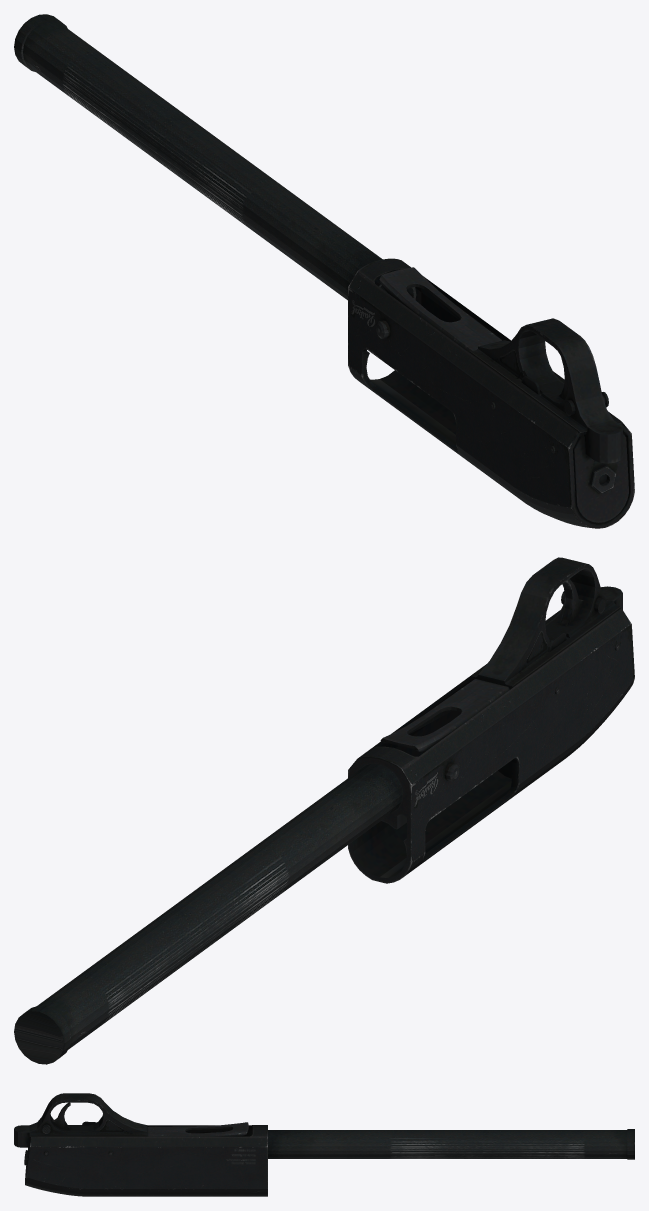
The picture shows the model from 3 angles, top to bottom: view 1: azimuth 30°, elevation 25°; view 2: azimuth 150°, elevation 25°; view 3: azimuth 270°, elevation 25°; orthographic projection. The views are drawn at different scales.
Visible parts, largest first — view 1: TW_54491c4f4bdc2db1078b4568_PZ_Import; view 2: TW_54491c4f4bdc2db1078b4568_PZ_Import; view 3: TW_54491c4f4bdc2db1078b4568_PZ_Import.
Part boxes in pixels (left/top/right/bottom): TW_54491c4f4bdc2db1078b4568_PZ_Import: left=14, top=14, right=634, bottom=528; TW_54491c4f4bdc2db1078b4568_PZ_Import: left=14, top=557, right=634, bottom=1064; TW_54491c4f4bdc2db1078b4568_PZ_Import: left=14, top=1093, right=634, bottom=1196.
Size of the model in its own units: 0.0218 by 0.3019 by 0.0525.
1 material, 1 textured.
